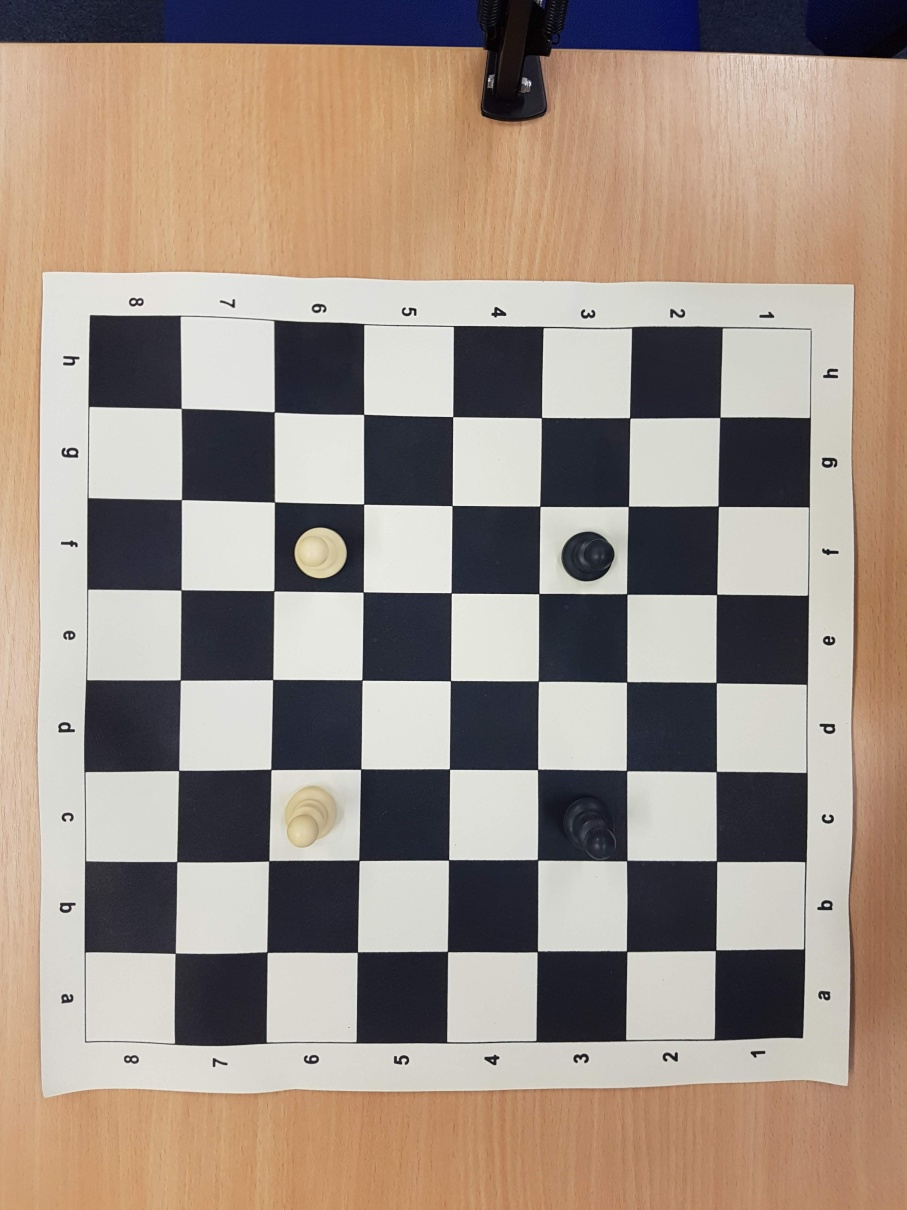chess_pawn: (560, 794, 617, 860), (284, 786, 338, 848), (561, 530, 615, 585), (294, 527, 347, 578)
